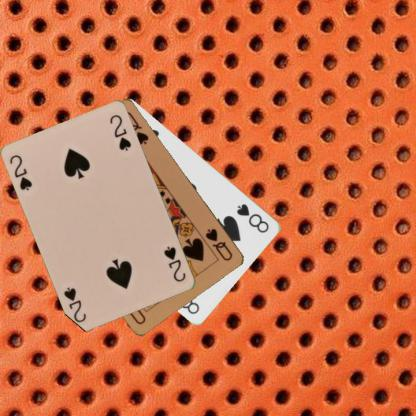2s: (8, 152, 34, 192), (161, 244, 187, 283)
8s: (234, 200, 271, 234)
Qs: (203, 226, 234, 262)
